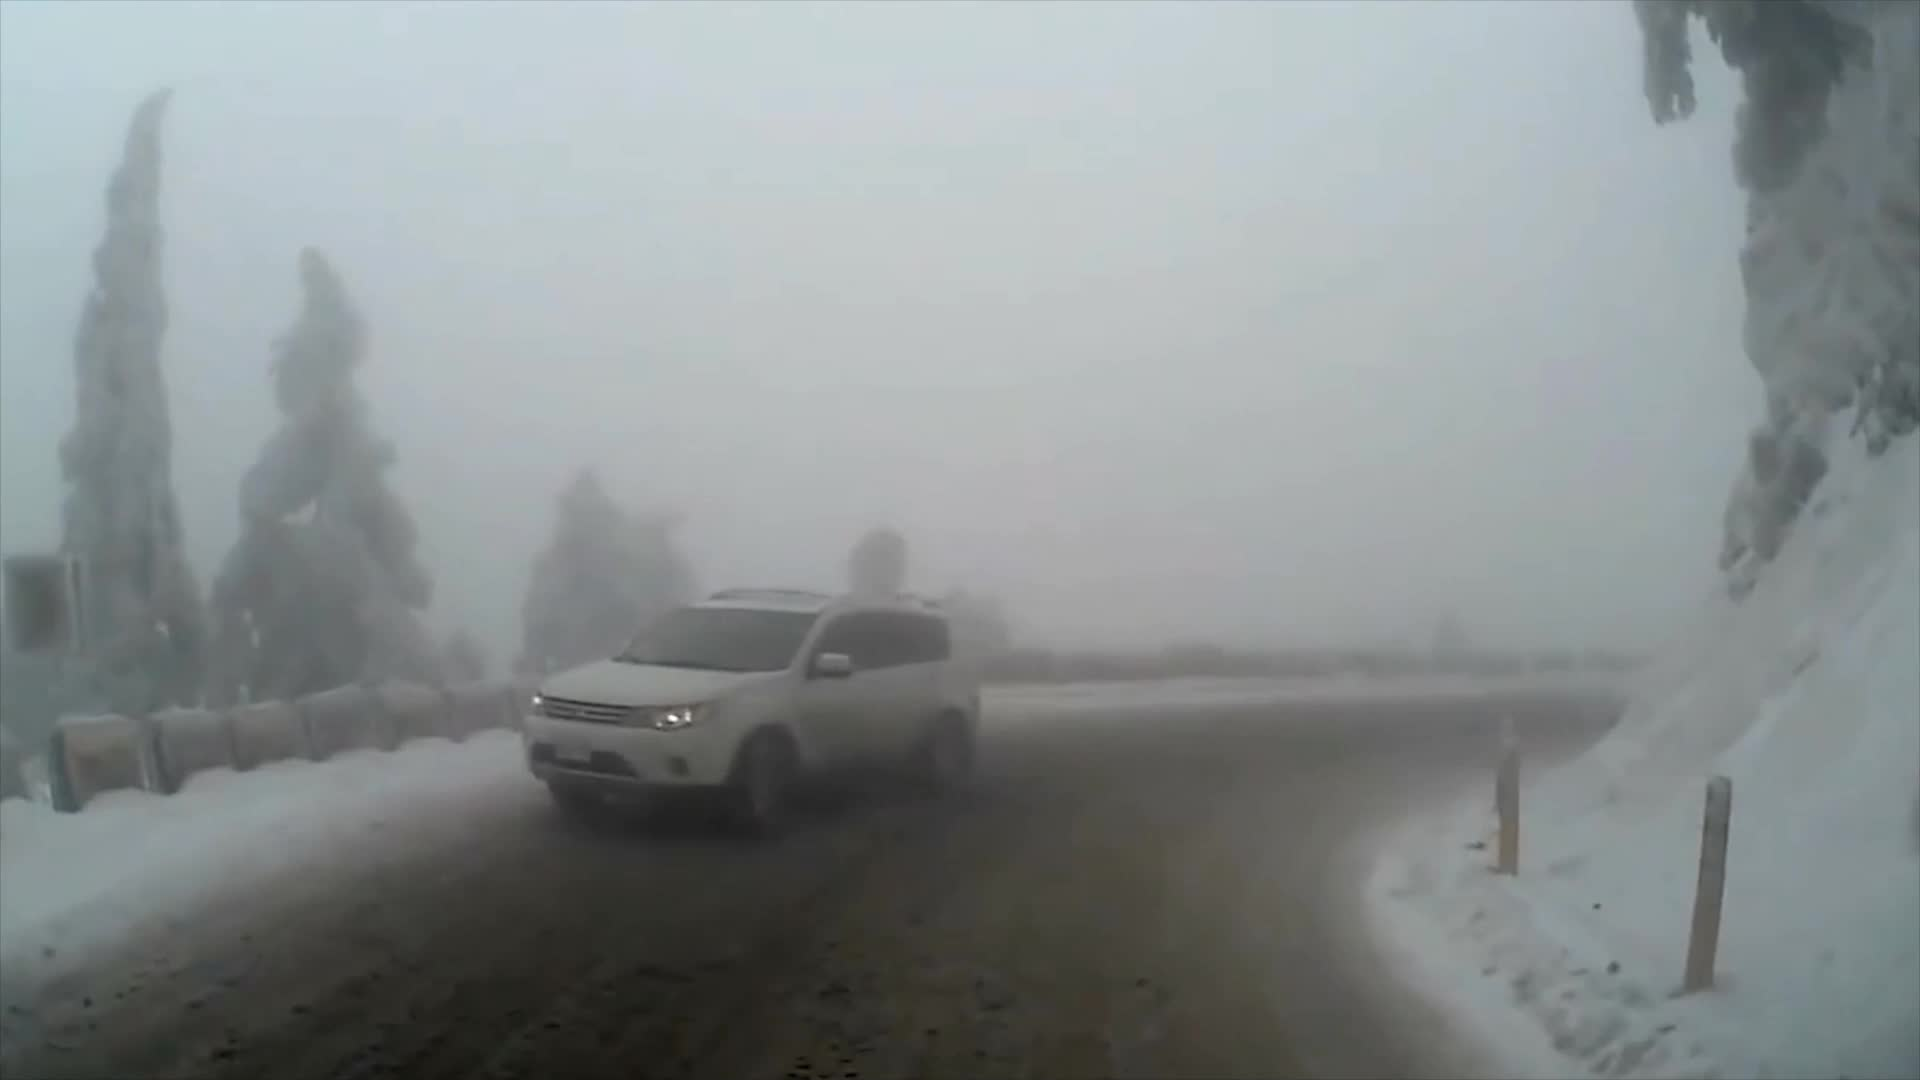vehicle: (516, 583, 978, 840)
